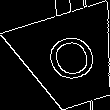O_S: (38, 29, 101, 91)
